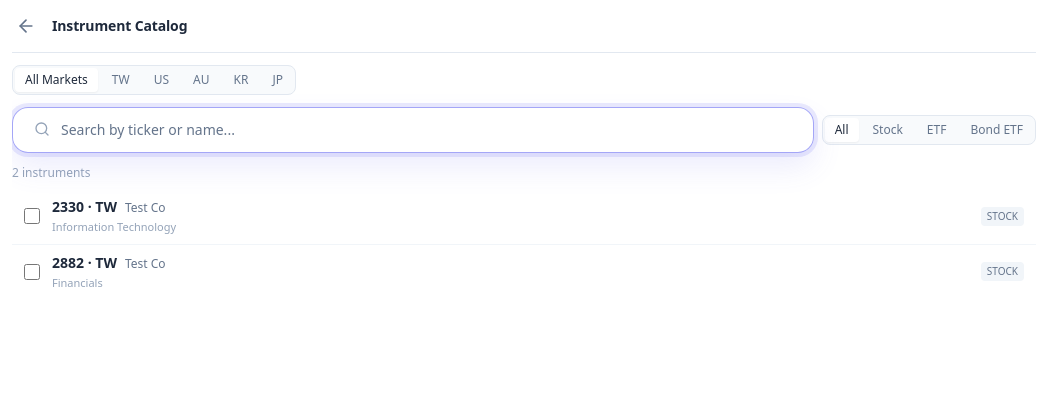
Test: InstrumentCatalogSheet sector filtering › clears the active sector narrow when returning to ALL
Step 1. Click the button "TW" → (121, 80), box [102,68,140,92]
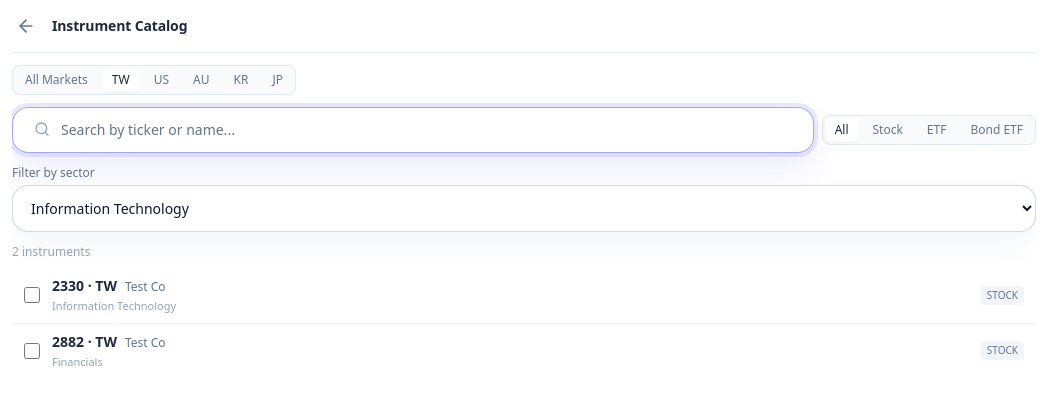
Step 2. Select "Information Technology" in the dropdown with test id "catalog-sector-filter" → (524, 208), box [12,185,1036,232]
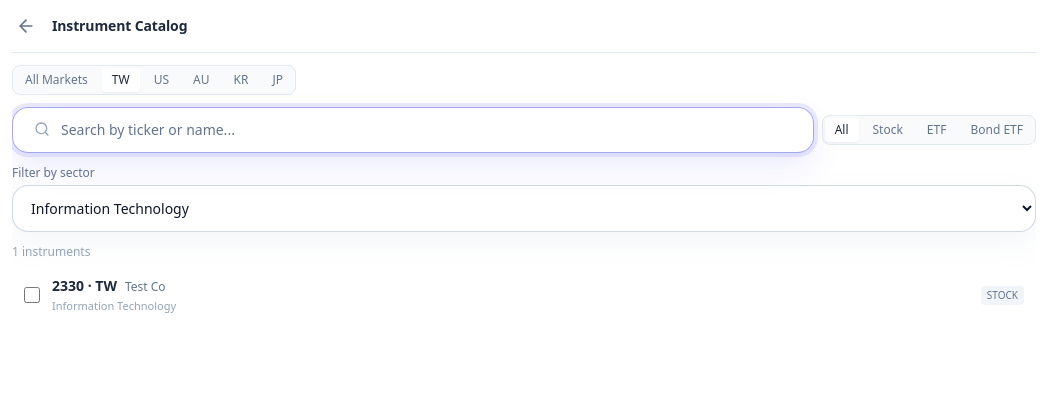
Result: the label with test id "catalog-item-2882" is gone
Step 3. Click the button "All Markets" → (56, 80), box [15,68,98,92]
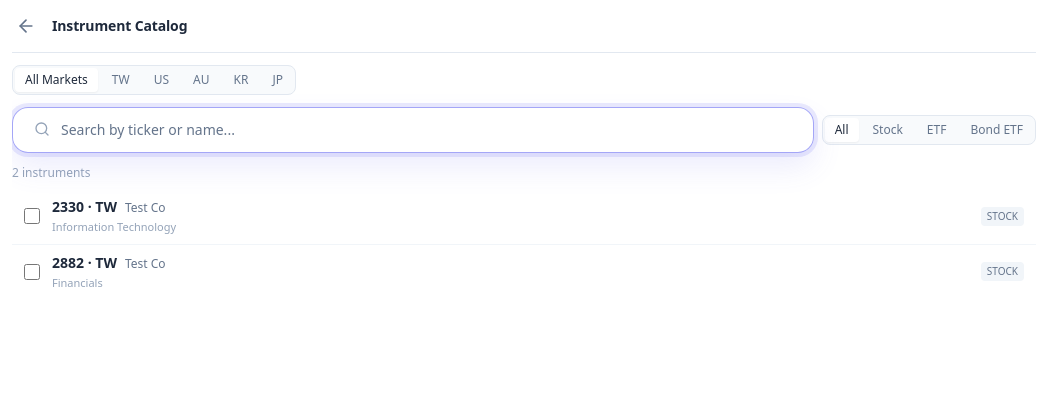
Step 4. Click the button "TW" → (121, 80), box [102,68,140,92]
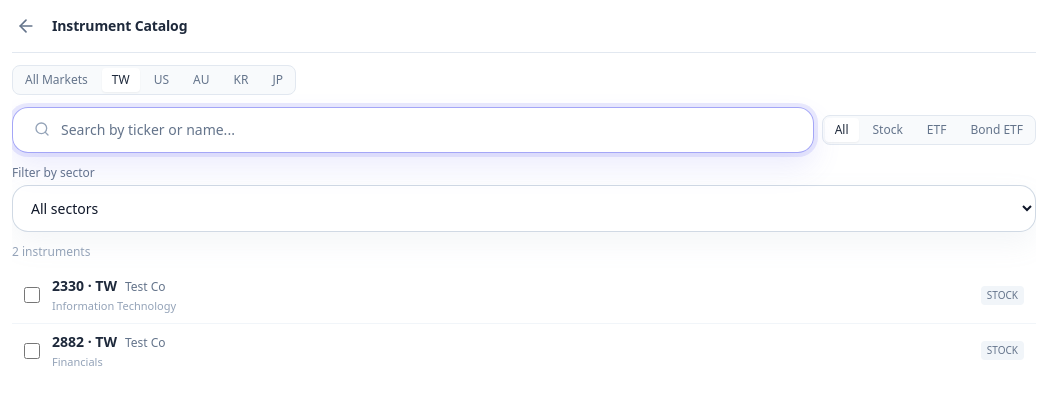
Result: the text "2882 · TW Test Co Financials STOCK" is shown at [12,322,1036,378]
Result: the dropdown with test id "catalog-sector-filter" shows "All sectors" at [12,185,1036,232]
